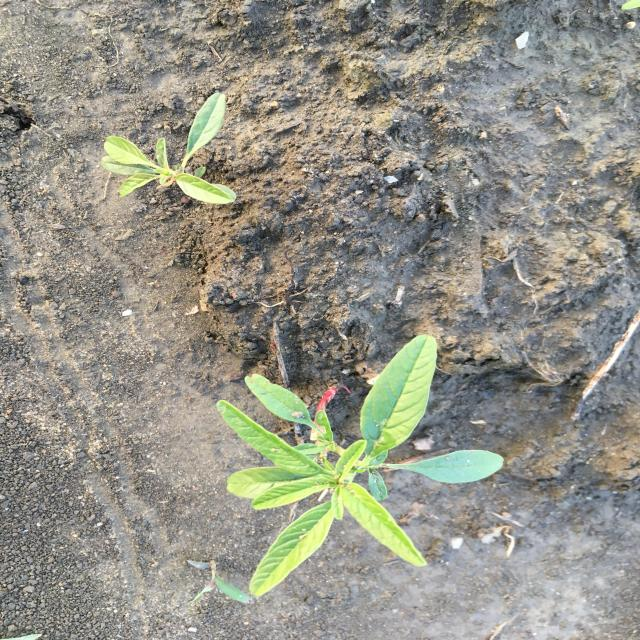Waterhemp: (213, 334, 506, 599), (98, 91, 240, 207)
